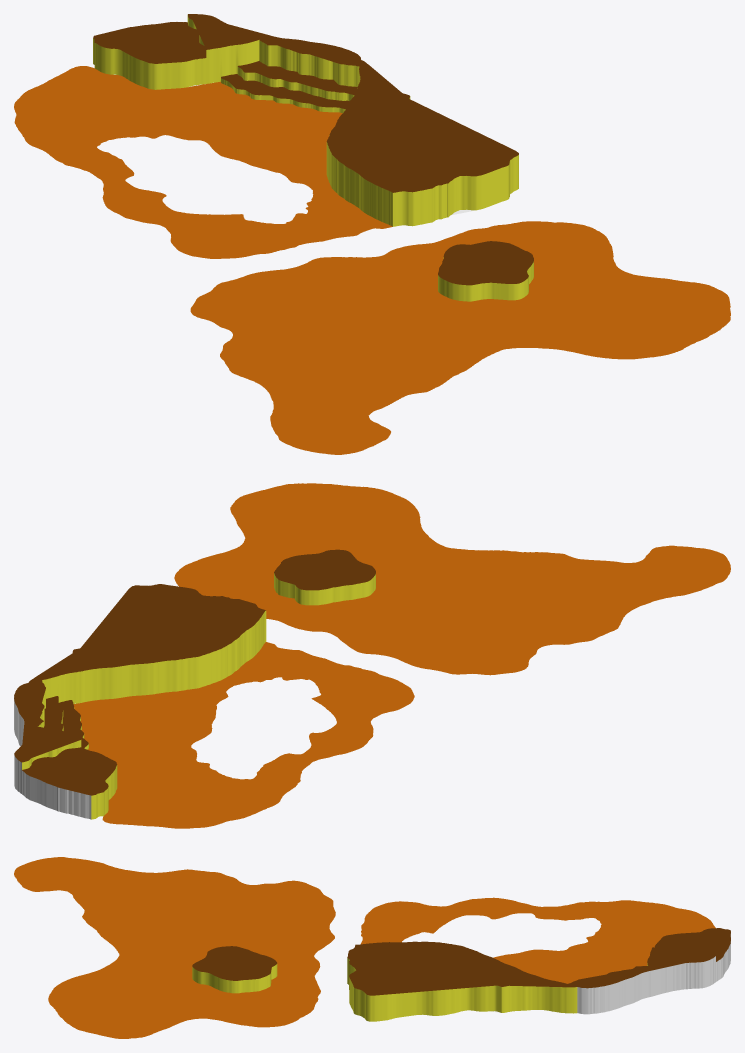
File: incilanin_leveli8.fbx
3 views of the same model, one above another, from view 1: azimuth 30°, elevation 25°; view 2: azimuth 150°, elevation 25°; view 3: azimuth 270°, elevation 25° (orthographic). The views are drawn at different scales.
Visible parts, largest first — view 1: Model; view 2: Model; view 3: Model.
Boxes of the visible parts, bbox=[...] form: Model: bbox=[14, 14, 730, 454]; Model: bbox=[14, 483, 730, 828]; Model: bbox=[14, 857, 730, 1038].
Size of the model in its own units: 3.14 by 0.21 by 5.22.
